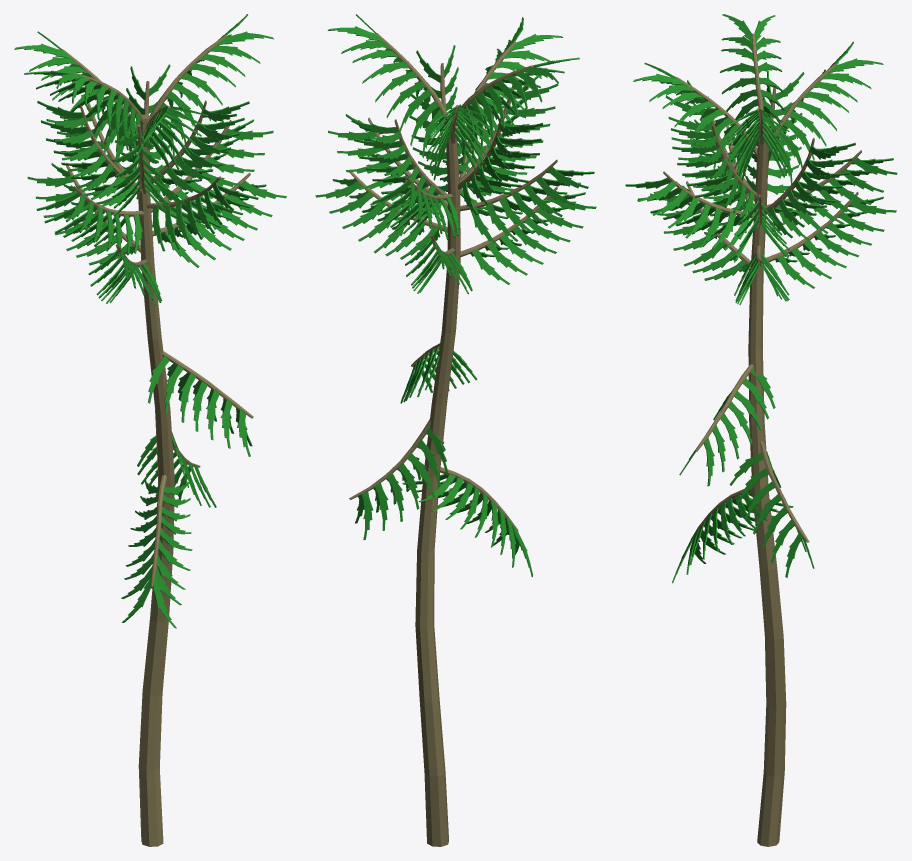
File: Tall Tree.fbx
The picture shows the model from 3 angles, left to right: view 1: azimuth 30°, elevation 25°; view 2: azimuth 150°, elevation 25°; view 3: azimuth 270°, elevation 25°; orthographic projection. The views are drawn at different scales.
Parts seen in each view (by area): view 1: Cylinder.041, Cylinder.024, Cylinder.025; view 2: Cylinder.041; view 3: Cylinder.041, Cylinder.023.
Part boxes in pixels (x1,y1,x2,y2): Cylinder.041: (138,114,174,846); Cylinder.024: (150,475,166,588); Cylinder.025: (162,351,253,418); Cylinder.041: (415,116,460,846); Cylinder.041: (748,131,786,846); Cylinder.023: (760,441,809,542).
Bounding box in the file's own units: 25.51 × 76.94 × 24.55.
